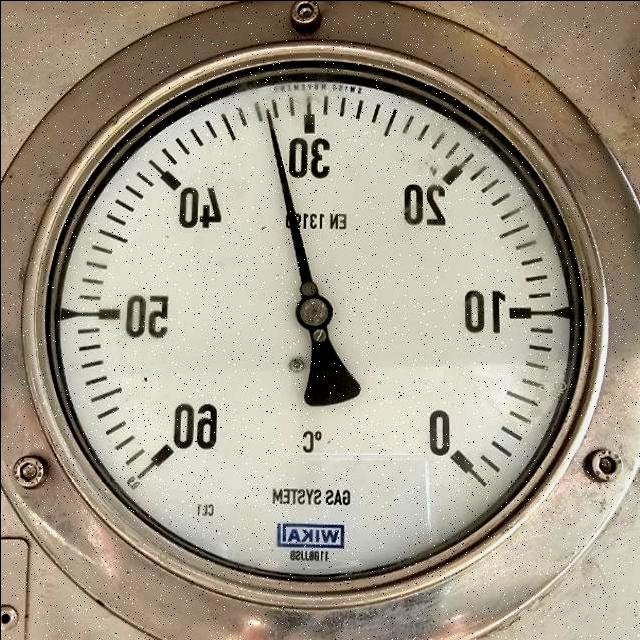Needle_Tip: (235, 89, 306, 157)
Needle_base: (285, 288, 347, 352)
max_value: (141, 397, 234, 456)
min_value: (423, 404, 471, 461)
